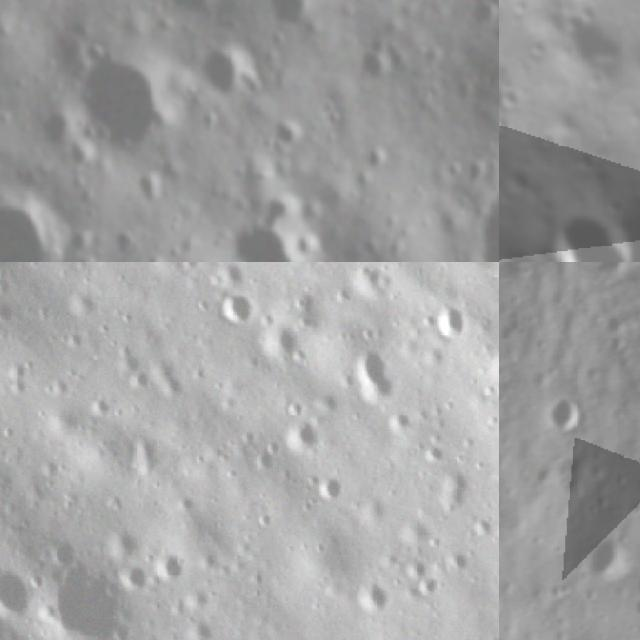crater: (19, 535, 161, 640), (70, 46, 171, 163), (541, 0, 640, 94), (334, 333, 424, 426), (526, 193, 640, 262), (0, 358, 40, 512), (0, 543, 58, 637), (267, 405, 336, 474), (255, 315, 322, 382), (419, 293, 481, 355), (0, 201, 63, 262), (192, 48, 255, 105), (227, 221, 307, 262), (208, 284, 264, 342), (348, 574, 402, 628), (308, 463, 362, 516), (353, 40, 402, 92), (582, 534, 627, 582), (438, 541, 484, 587), (381, 403, 426, 448), (539, 392, 588, 431), (262, 0, 316, 33), (399, 551, 438, 591), (407, 572, 445, 611), (499, 52, 518, 126), (265, 118, 301, 157), (239, 623, 315, 640), (485, 340, 499, 399)
